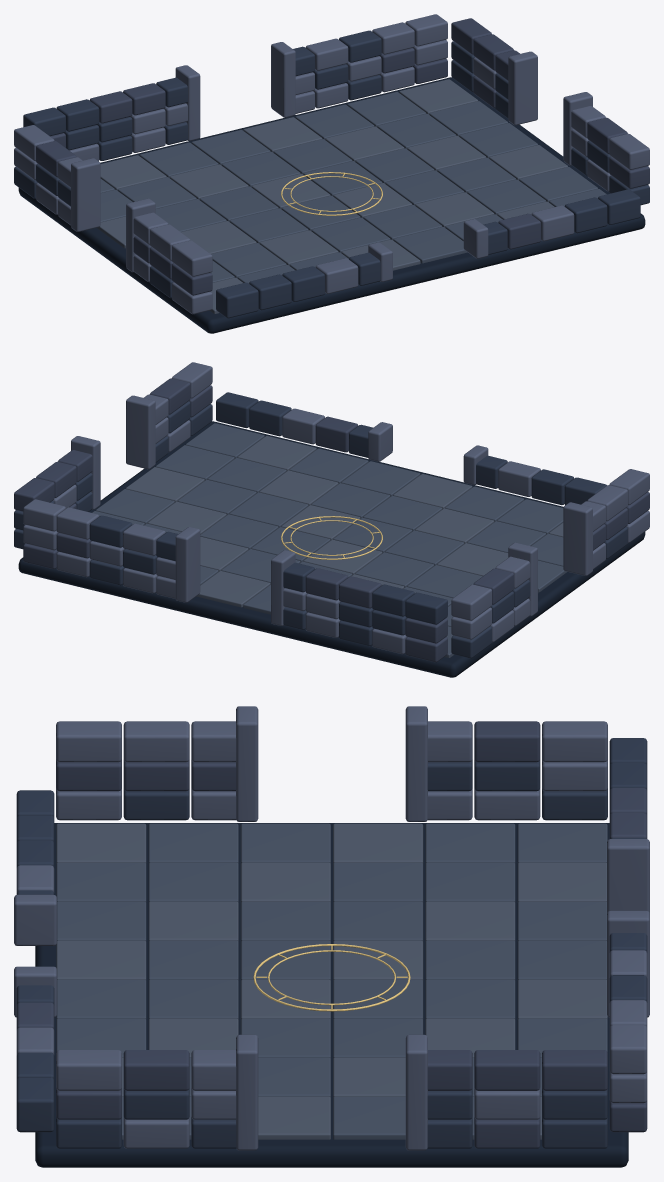
File: room.glb
The picture shows the model from 3 angles, top to bottom: view 1: azimuth 30°, elevation 25°; view 2: azimuth 150°, elevation 25°; view 3: azimuth 270°, elevation 25°; orthographic projection. The views are drawn at different scales.
Parts seen in each view (by area): view 1: Room_foundation, Passage_W_post_1, Passage_E_post_1, Passage_N_post_1, Floor_tile_4_0, Floor_tile_2_4, Floor_tile_4_5, Floor_tile_2_3, Floor_tile_3_4, Floor_tile_4_1, Floor_tile_5_4, Floor_tile_5_5 (+84 smaller); view 2: Room_foundation, Passage_W_post_-1, Passage_E_post_-1, Passage_N_post_1, Floor_tile_4_5, Floor_tile_2_2, Floor_tile_4_0, Floor_tile_2_1, Floor_tile_3_1, Floor_tile_5_1, Floor_tile_6_2, Floor_tile_7_2 (+79 smaller); view 3: Room_foundation, Floor_tile_0_2, Floor_tile_0_3, Floor_tile_1_2, Floor_tile_1_3, Floor_tile_2_2, Floor_tile_2_3, Floor_tile_0_0, Floor_tile_0_1, Floor_tile_0_4, Floor_tile_1_1, Floor_tile_1_4 (+95 smaller).
Part boxes in pixels (x1,y1,x2,y2): Room_foundation: (18, 77, 645, 333); Passage_W_post_1: (71, 158, 100, 231); Passage_E_post_1: (508, 51, 537, 125); Passage_N_post_1: (271, 42, 295, 117); Floor_tile_4_0: (393, 227, 467, 263); Floor_tile_2_4: (169, 164, 248, 199); Floor_tile_4_5: (243, 117, 322, 152); Floor_tile_2_3: (199, 186, 278, 221); Floor_tile_3_4: (221, 151, 300, 187); Floor_tile_4_1: (363, 205, 442, 240); Floor_tile_5_4: (325, 126, 404, 161); Floor_tile_5_5: (295, 104, 374, 139); Room_foundation: (18, 421, 645, 677); Passage_W_post_-1: (563, 502, 592, 575); Passage_E_post_-1: (126, 395, 155, 469); Passage_N_post_1: (175, 527, 200, 602); Floor_tile_4_5: (196, 571, 270, 607); Floor_tile_2_2: (385, 530, 464, 565); Floor_tile_4_0: (341, 461, 420, 496); Floor_tile_2_1: (415, 508, 494, 543); Floor_tile_3_1: (363, 495, 442, 531); Floor_tile_5_1: (259, 470, 338, 505); Floor_tile_6_2: (177, 479, 256, 514); Floor_tile_7_2: (126, 467, 204, 502); Room_foundation: (35, 823, 628, 1167); Floor_tile_0_2: (240, 823, 330, 863); Floor_tile_0_3: (333, 823, 423, 863); Floor_tile_1_2: (240, 862, 330, 902); Floor_tile_1_3: (333, 862, 423, 902); Floor_tile_2_2: (240, 901, 330, 941); Floor_tile_2_3: (333, 901, 423, 941); Floor_tile_0_0: (56, 823, 146, 863); Floor_tile_0_1: (148, 823, 238, 863); Floor_tile_0_4: (425, 823, 515, 863); Floor_tile_1_1: (148, 862, 238, 902); Floor_tile_1_4: (425, 862, 515, 902).
Bounding box in the file's own units: 13.34 × 2.3 × 10.34.
